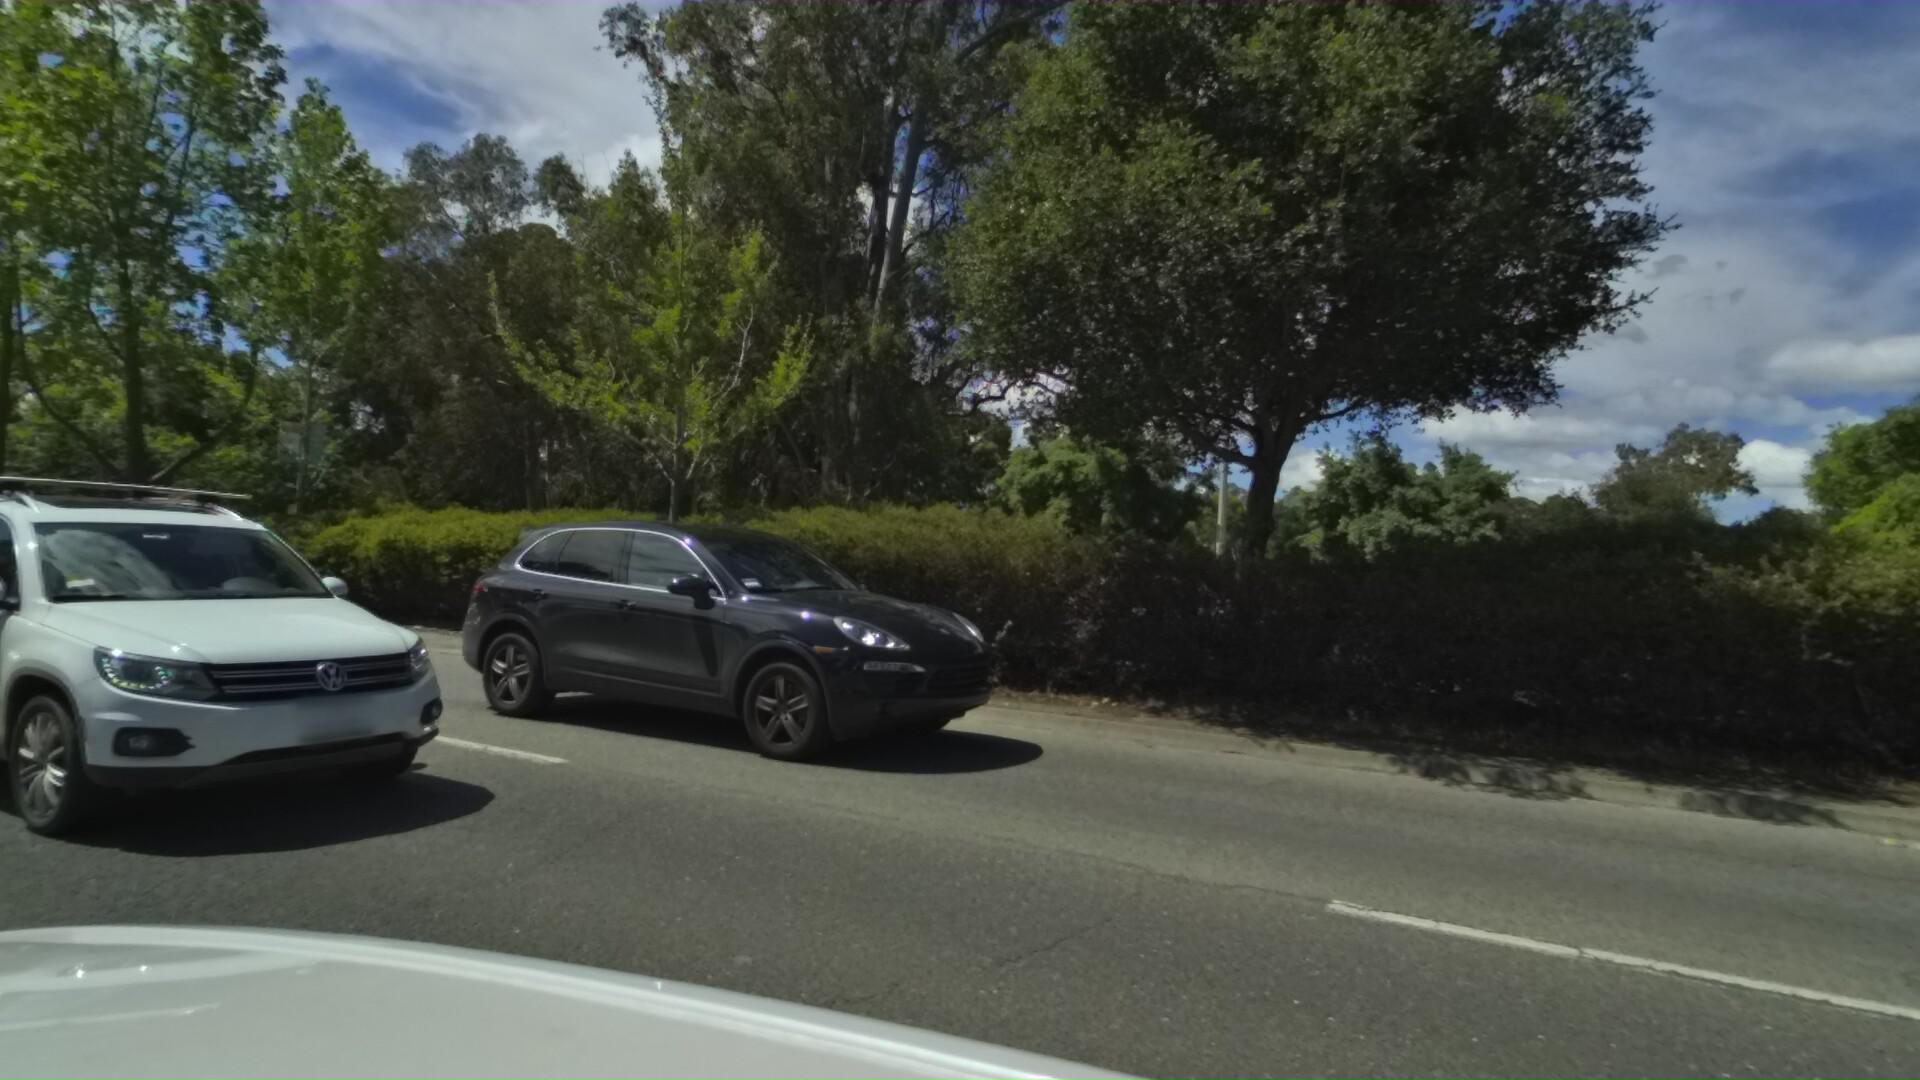car: (0, 462, 508, 894), (435, 505, 1047, 793)
